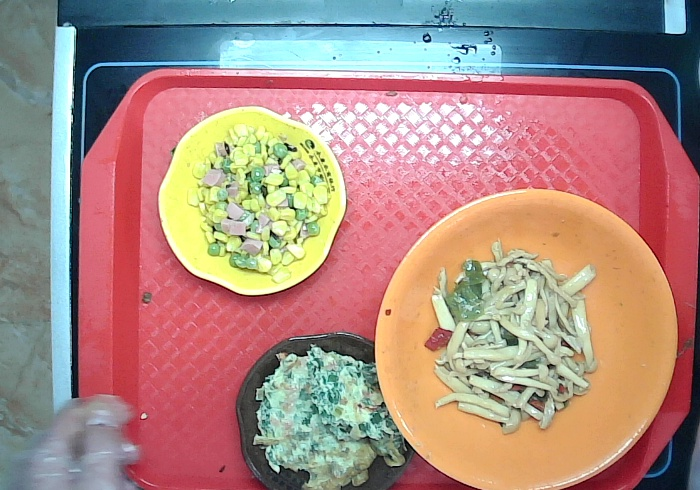YKMZ-Huang_Se_Ao_Bian_Wan: (155, 104, 348, 297)
YKMZ-Ju_Se_Tang_Wan: (373, 187, 680, 490)
YKMZ-Ka_Fei_Ao_Bian_Wan: (234, 330, 416, 490)
